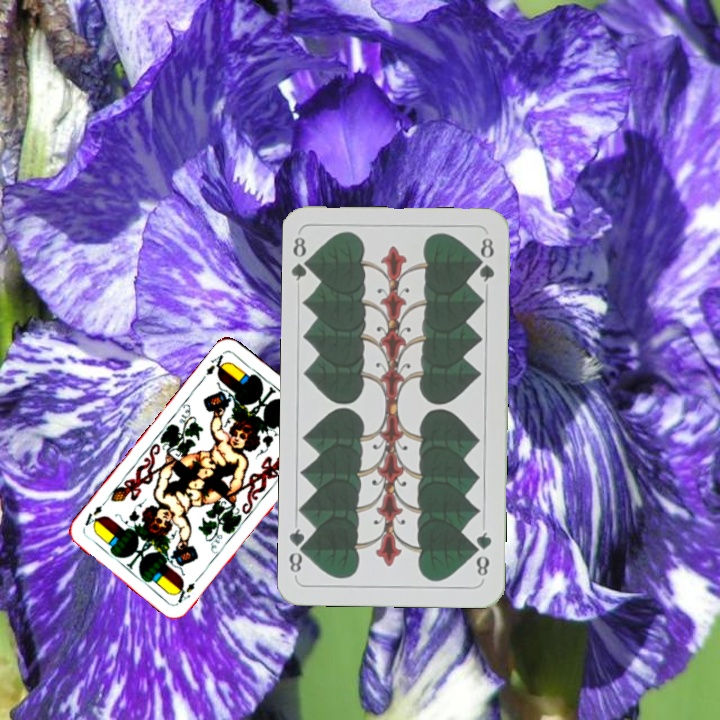EA: (198, 350, 231, 383), (173, 572, 203, 606)
G8: (288, 233, 316, 283), (470, 528, 495, 579)
